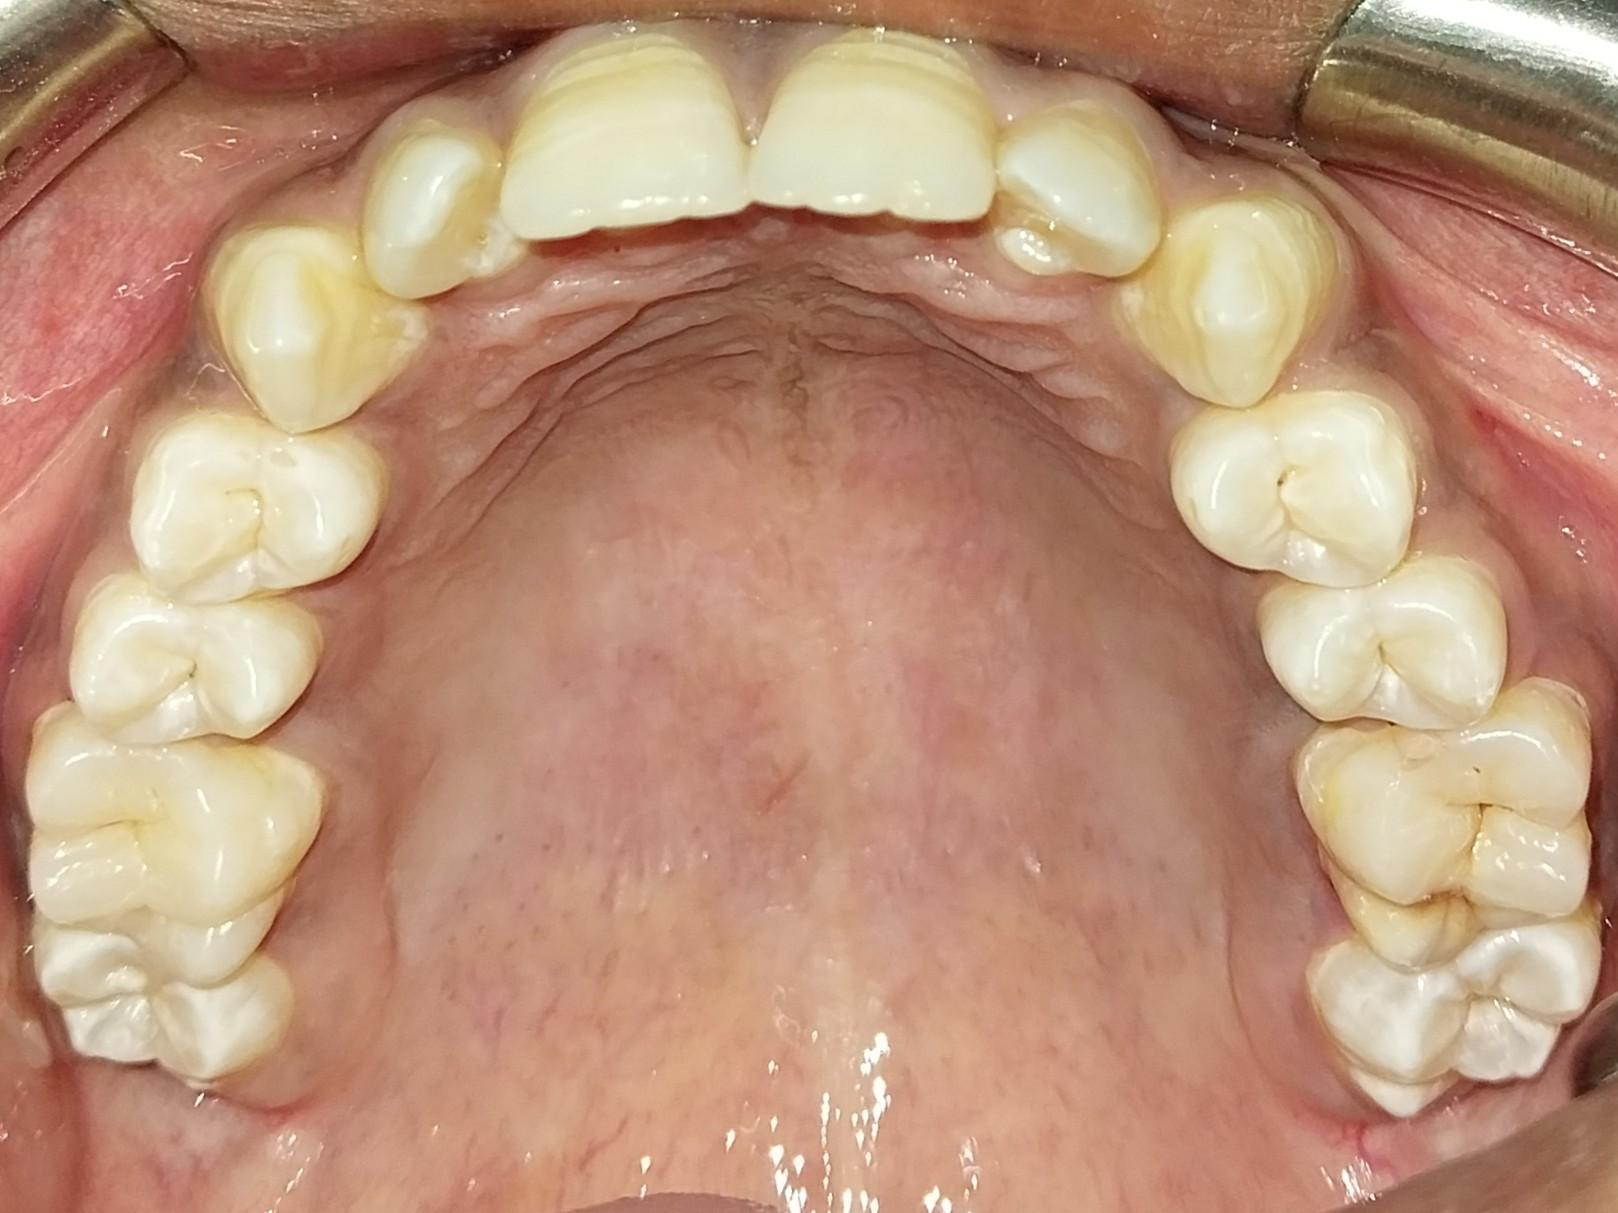D: (1175, 392, 1415, 587)
